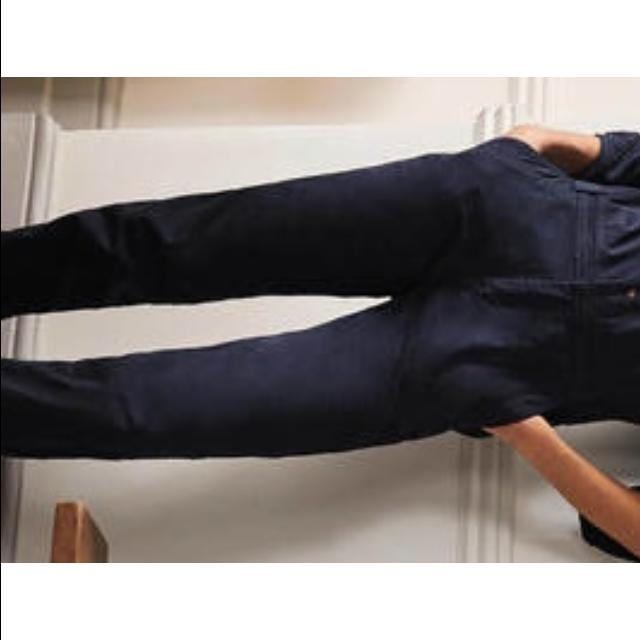cotton: (0, 186, 640, 450)
